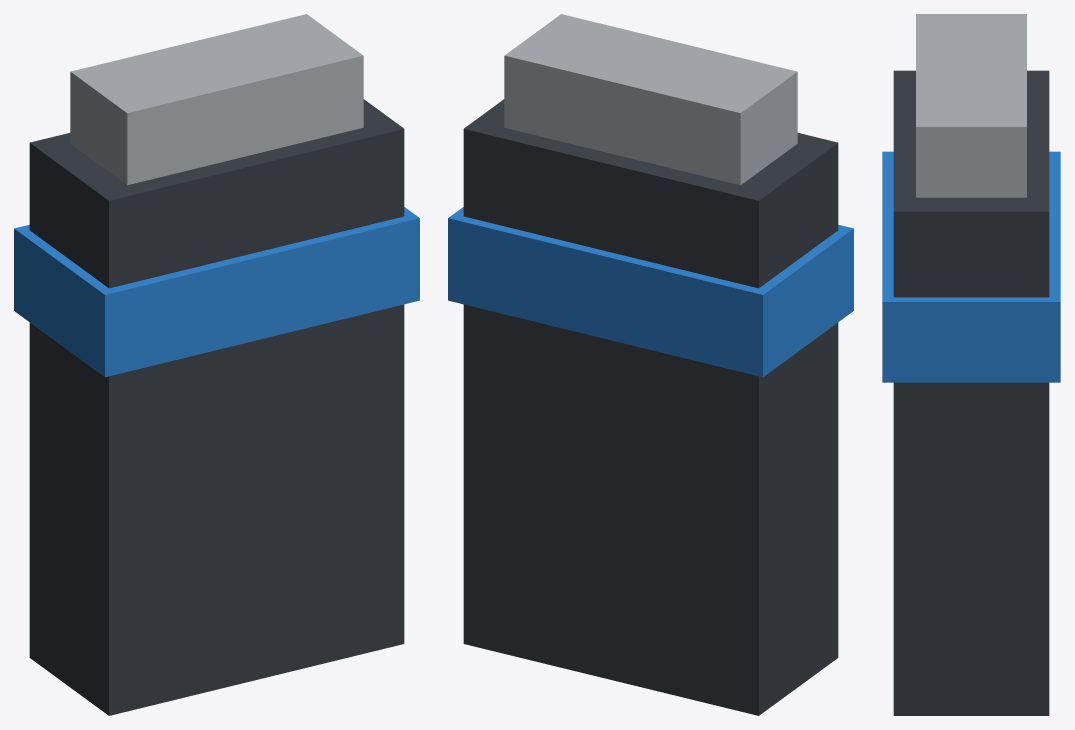
File: flechette-clip-ion.glb
The picture shows the model from 3 angles, left to right: view 1: azimuth 30°, elevation 25°; view 2: azimuth 150°, elevation 25°; view 3: azimuth 270°, elevation 25°; orthographic projection. The views are drawn at different scales.
Parts seen in each view (by area): view 1: m; view 2: m; view 3: m.
Boxes of the visible parts, x1,y1,x2,y2 form: m: (14,14,419,715); m: (448,14,853,715); m: (882,14,1060,715).
Size of the model in its own units: 0.0281 by 0.05 by 0.014.
